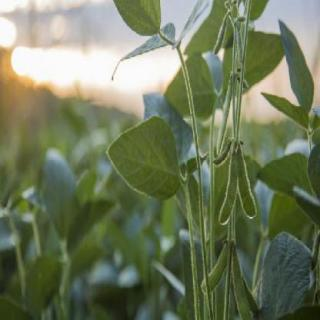soya: (232, 246, 252, 319), (201, 241, 228, 294), (218, 158, 237, 226), (215, 80, 231, 154), (238, 152, 256, 217), (214, 17, 226, 55)
